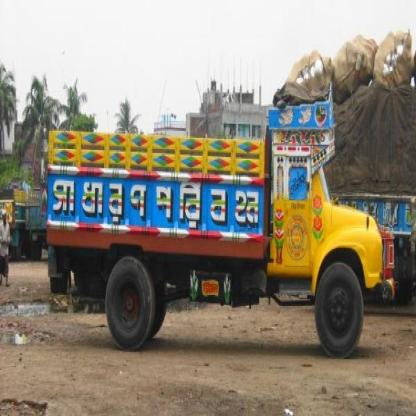truck: (45, 67, 381, 356), (326, 162, 414, 302), (0, 171, 44, 251)
